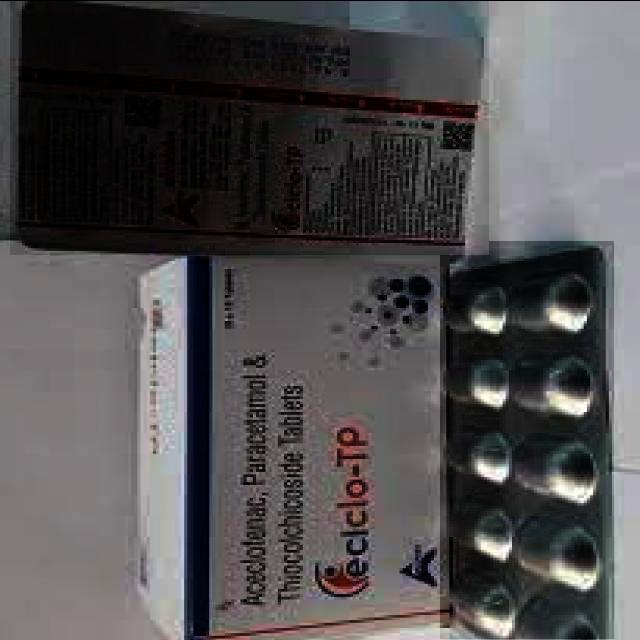authentic: (98, 249, 440, 640), (10, 0, 489, 254), (440, 240, 614, 638)
